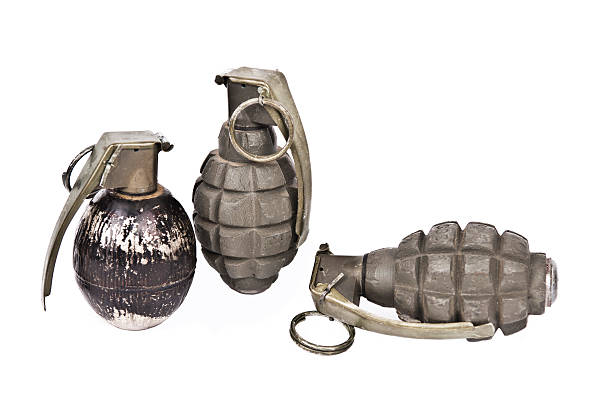e1: (295, 223, 568, 358), (39, 132, 198, 338), (192, 66, 313, 303)
